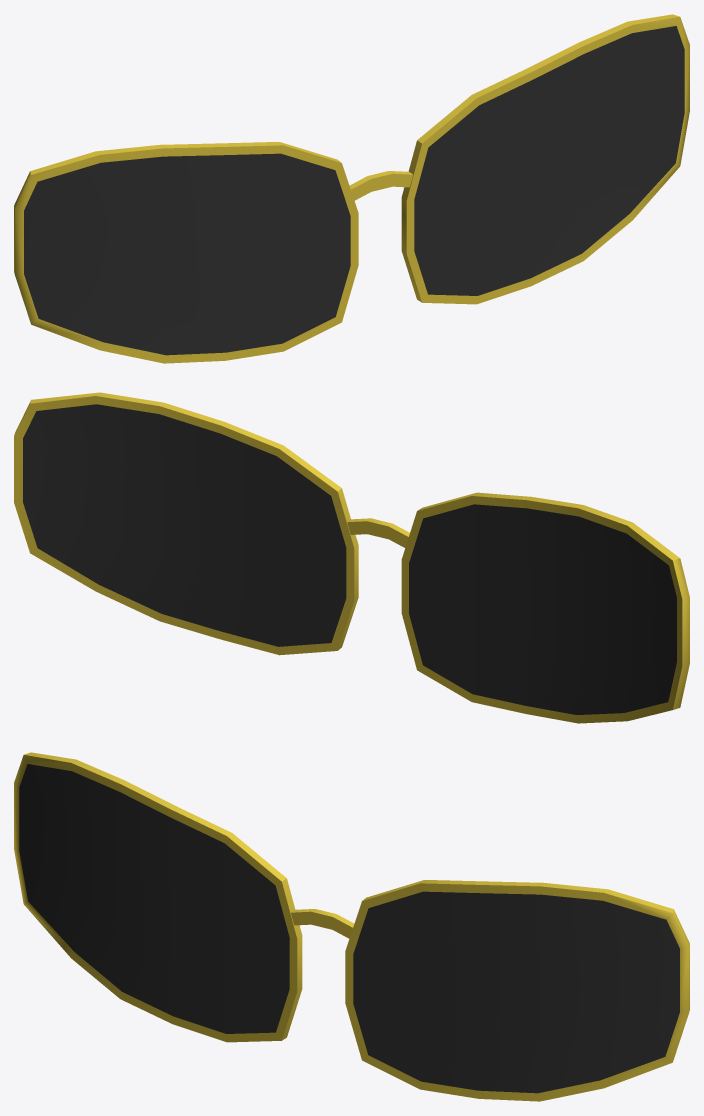
Rendered from sunglasses.fbx.
3 views of the same model, one above another, from view 1: azimuth 30°, elevation 25°; view 2: azimuth 150°, elevation 25°; view 3: azimuth 330°, elevation 25° (orthographic).
Parts seen in each view (by area): view 1: Sunglasses; view 2: Sunglasses; view 3: Sunglasses.
Part boxes in pixels (box(x1,y1,x2,y2)): Sunglasses: box(14, 14, 689, 363); Sunglasses: box(14, 392, 689, 723); Sunglasses: box(14, 752, 689, 1101).
Size of the model in its own units: 28.9 by 2.55 by 9.33.
